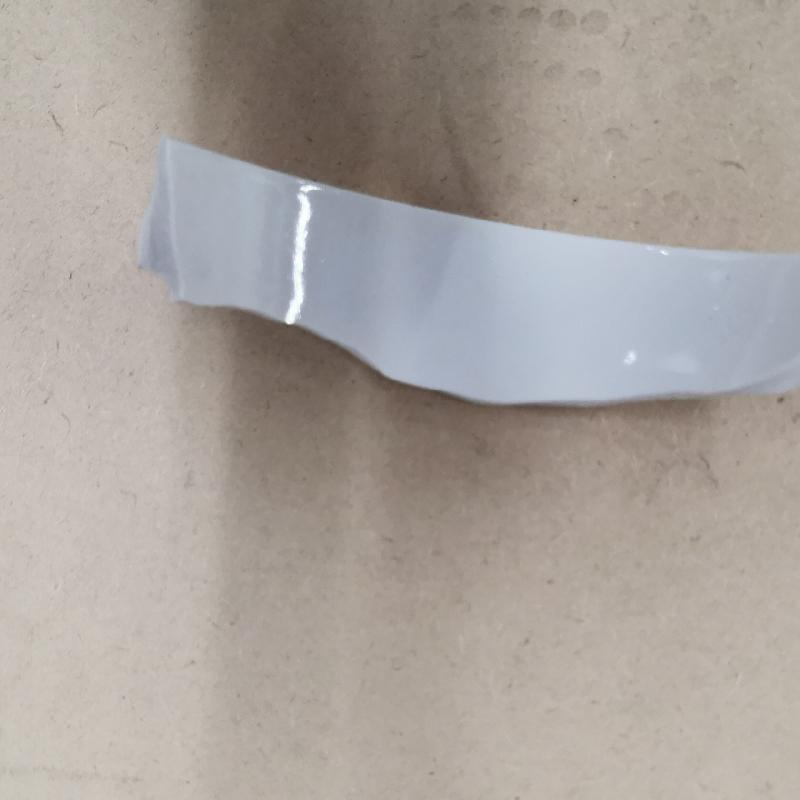ceram: (141, 135, 800, 413)
